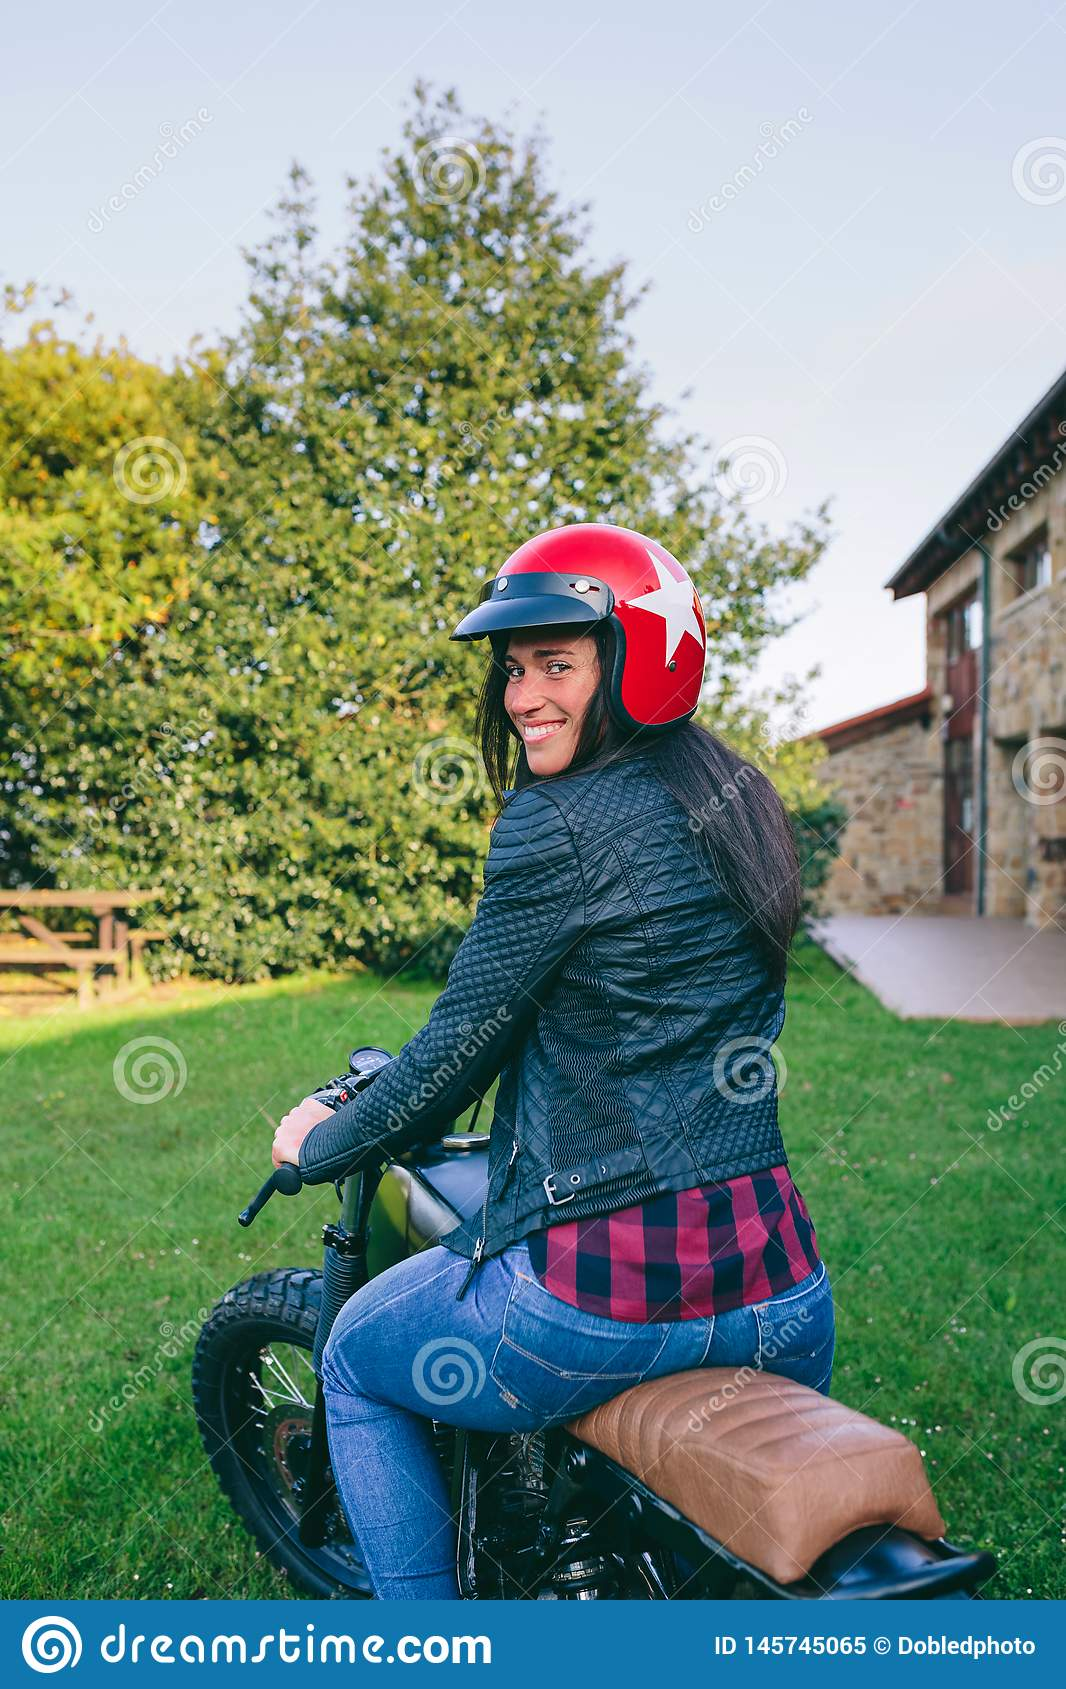helmet: (464, 525, 717, 722)
